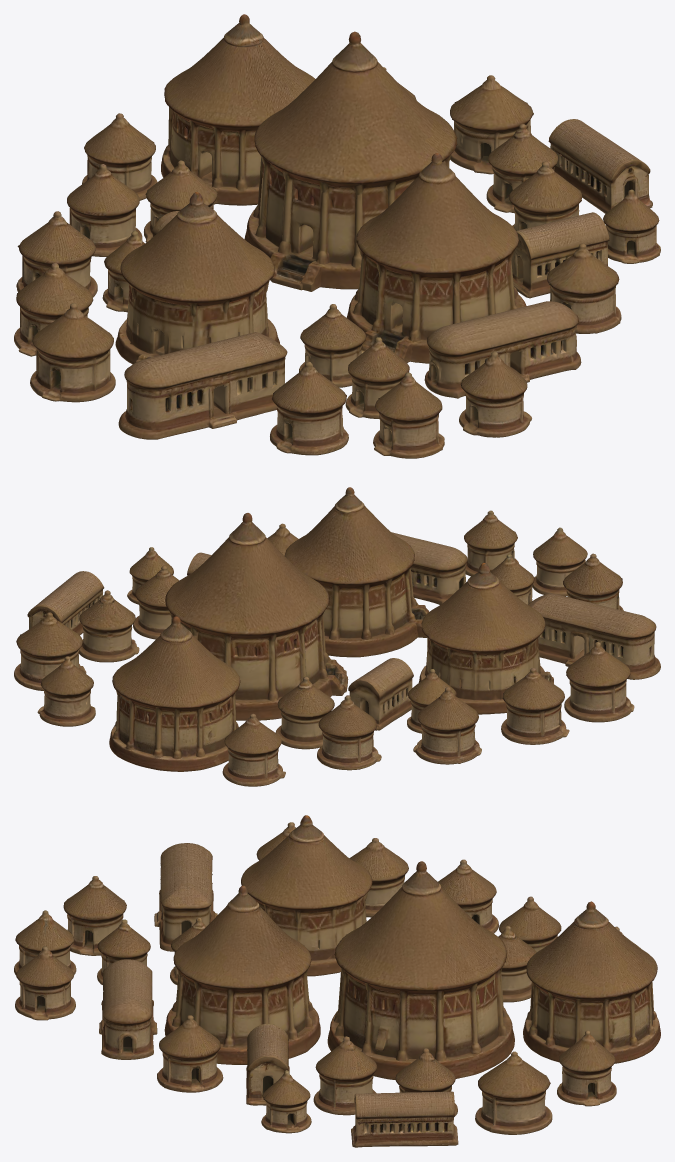
Rendered from Classical Town East African.fbx.
3 renders of one model, top to bottom at view 1: azimuth 30°, elevation 25°; view 2: azimuth 150°, elevation 25°; view 3: azimuth 270°, elevation 25°, orthographic. The views are drawn at different scales.
Visible parts, largest first — view 1: tripo_node_02d21fb1; view 2: tripo_node_02d21fb1; view 3: tripo_node_02d21fb1.
Part boxes in pixels (<box>): tripo_node_02d21fb1: <box>14,14,660,458</box>; tripo_node_02d21fb1: <box>14,487,660,786</box>; tripo_node_02d21fb1: <box>14,815,660,1147</box>.
Bounding box in the file's own units: 0.9973 × 0.3075 × 1.
